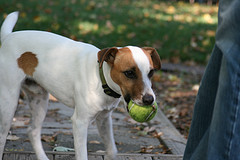tennis ball: (125, 93, 161, 123)
